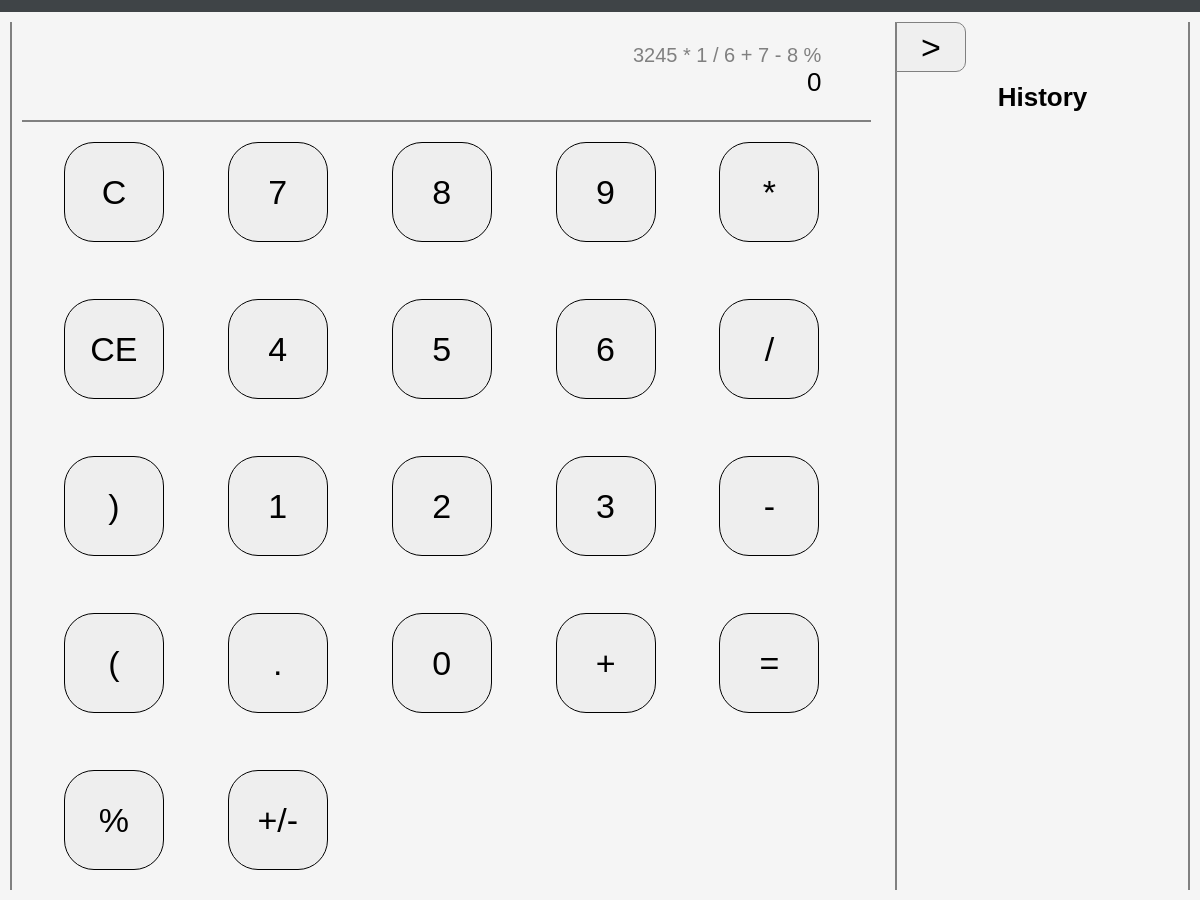
Display test › Numbers and operands input › Clear current number after clicking 'C' button
(page scrolled)
Click the button with test id "button-5" at coordinates (442, 349), box [392,299,492,399]
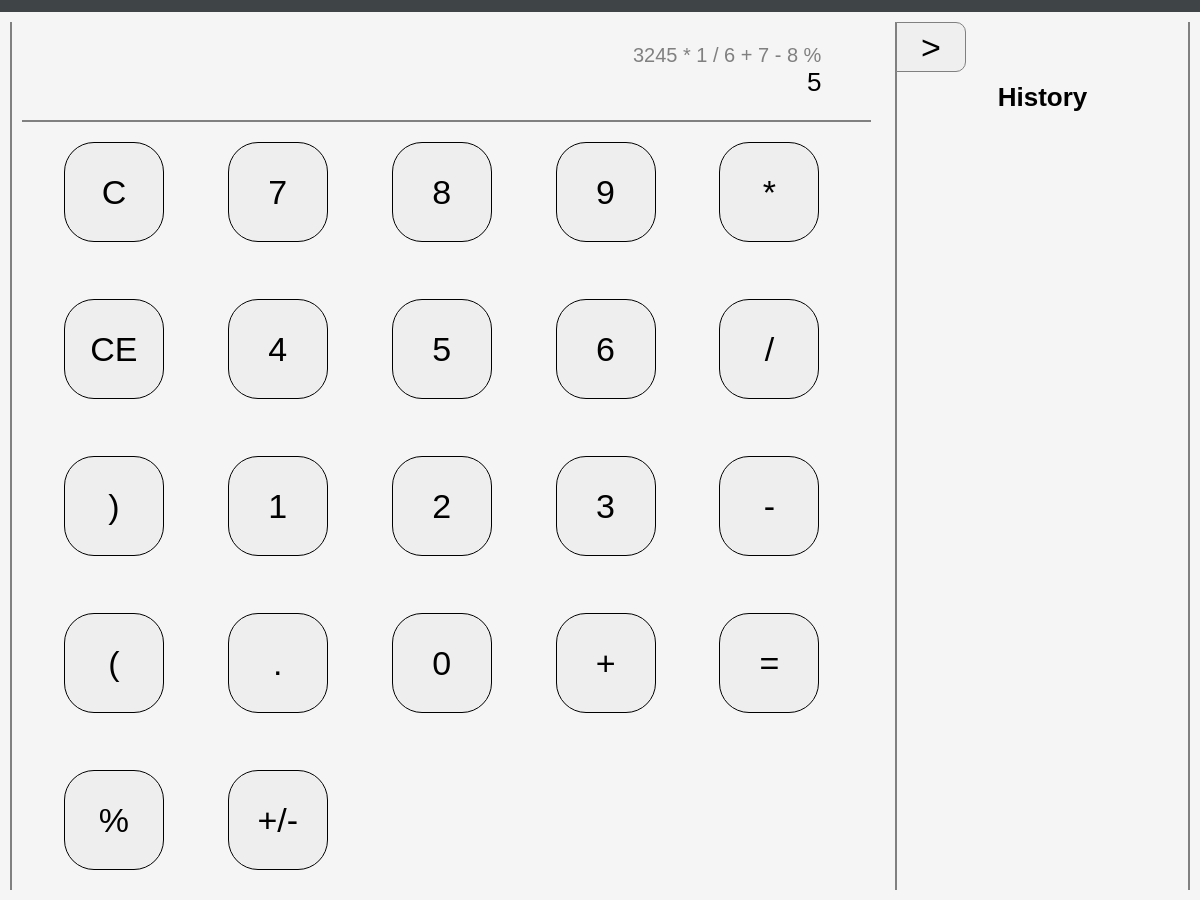
Click the button with test id "button-C" at coordinates (114, 192), box [64,142,164,242]
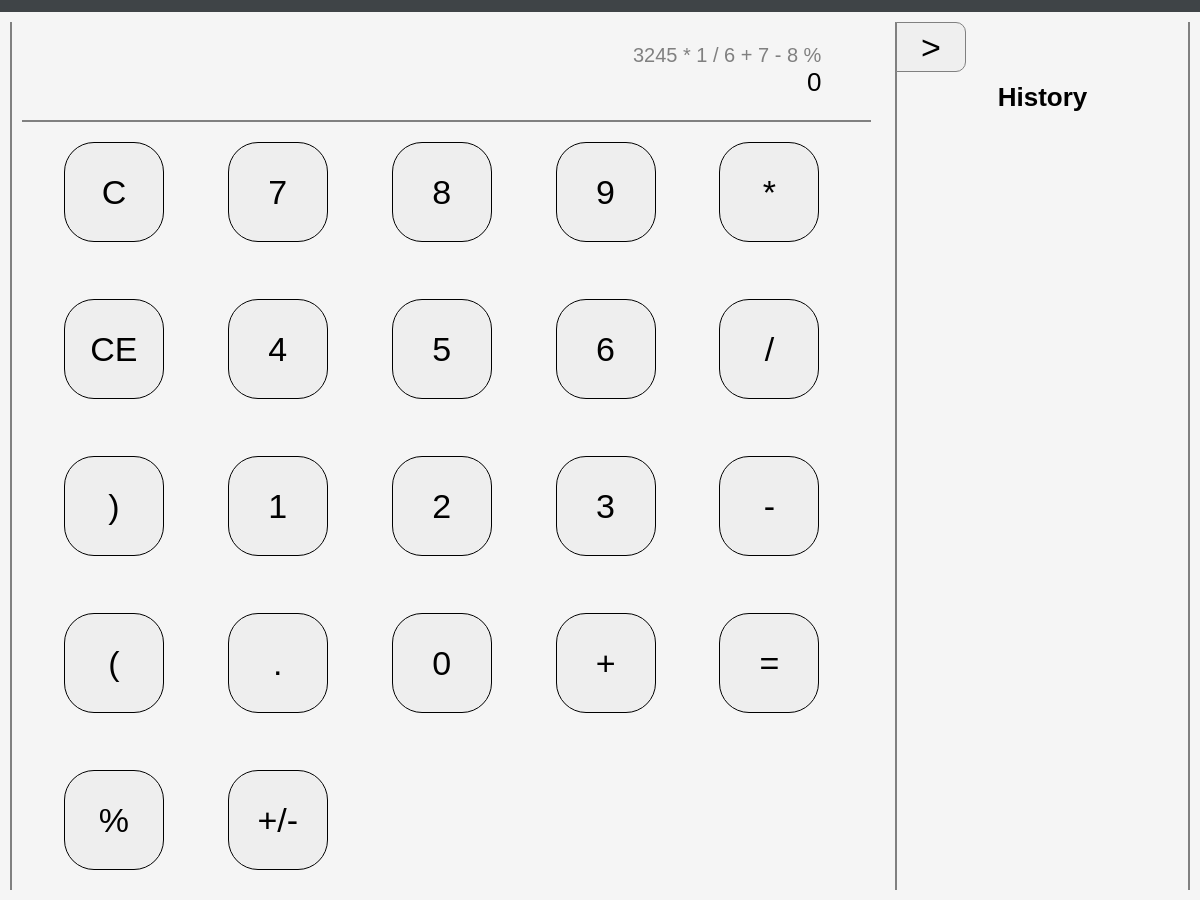
Check: the text "0" is shown, box [807,67,821,98]
